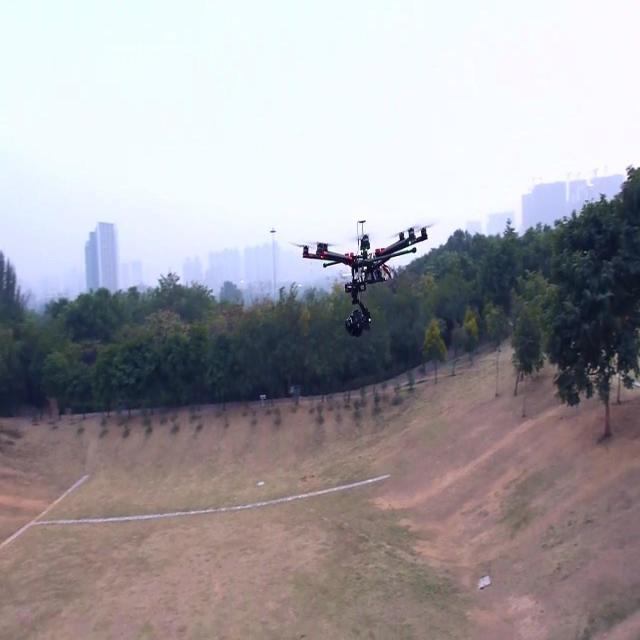drone: (293, 218, 429, 340)
